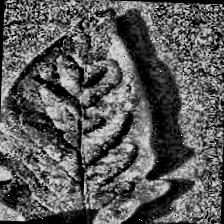spider mites: (0, 5, 175, 224)
